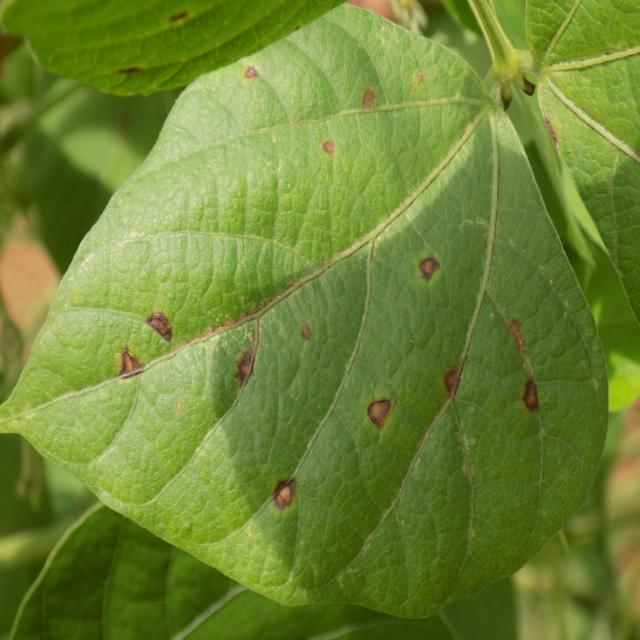Dolicos bean_cercospora leaf spot: (0, 5, 610, 617)
